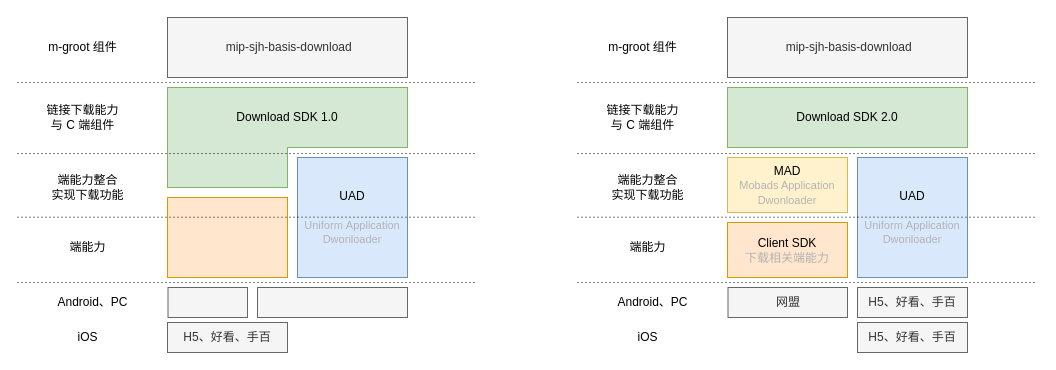
Image size: 1056x370. Some labels were removed from this diagram. Each missing label, with the centre of its shape:
"client-capabilities" belongs at (x=227, y=237).
"H5、网盟" belongs at (x=207, y=302).
"好看、手百" belongs at (x=332, y=302).
